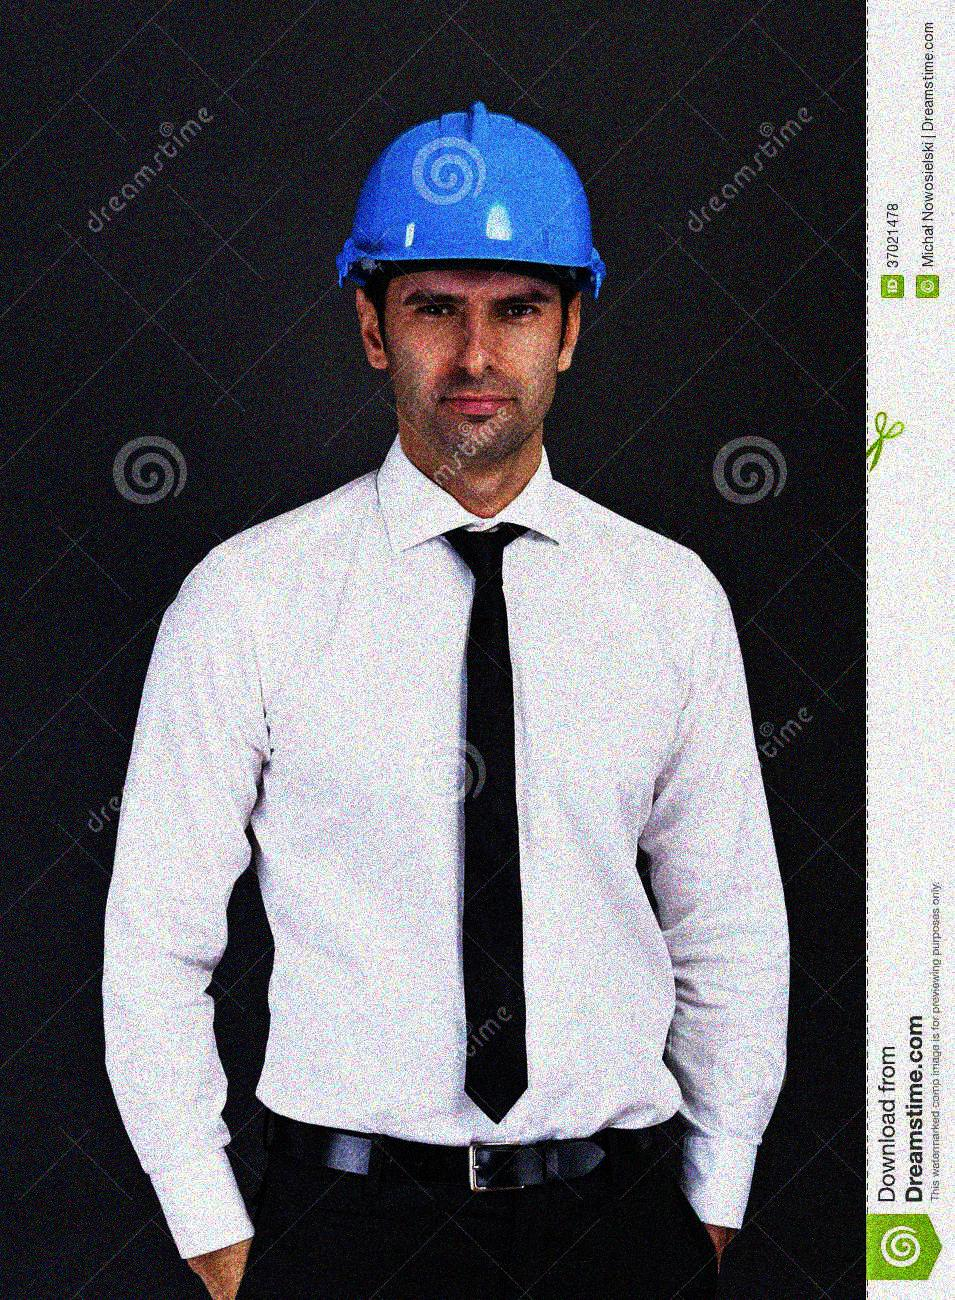helmet: (333, 101, 607, 466)
